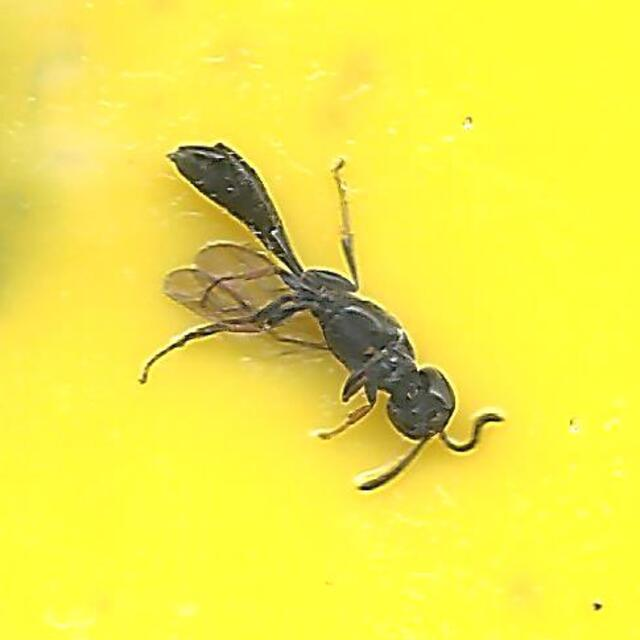Hymenoptera: (132, 137, 508, 503)
